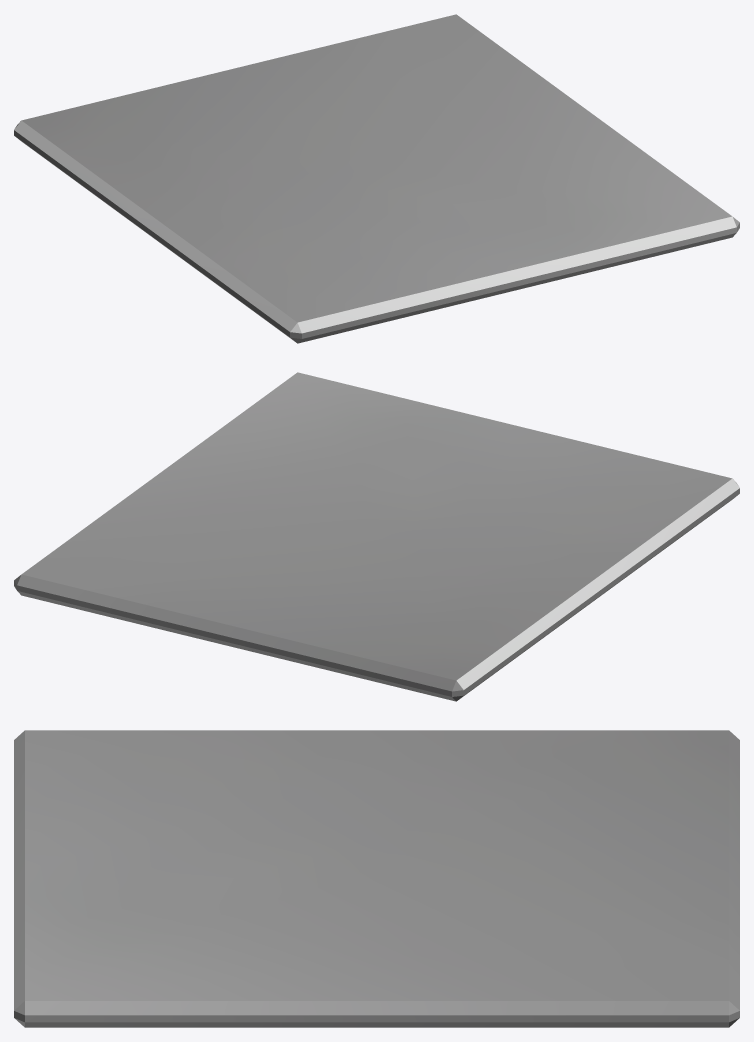
The model's file is stand_winch.fbx.
The picture shows the model from 3 angles, top to bottom: view 1: azimuth 30°, elevation 25°; view 2: azimuth 150°, elevation 25°; view 3: azimuth 270°, elevation 25°; orthographic projection. The views are drawn at different scales.
Visible parts, largest first — view 1: pCube3; view 2: pCube3; view 3: pCube3.
Boxes of the visible parts, x1=… form: pCube3: x1=14, y1=14, x2=739, y2=343; pCube3: x1=14, y1=372, x2=739, y2=701; pCube3: x1=14, y1=730, x2=739, y2=1027.
Size of the model in its own units: 3.49 by 0.1561 by 3.82.
